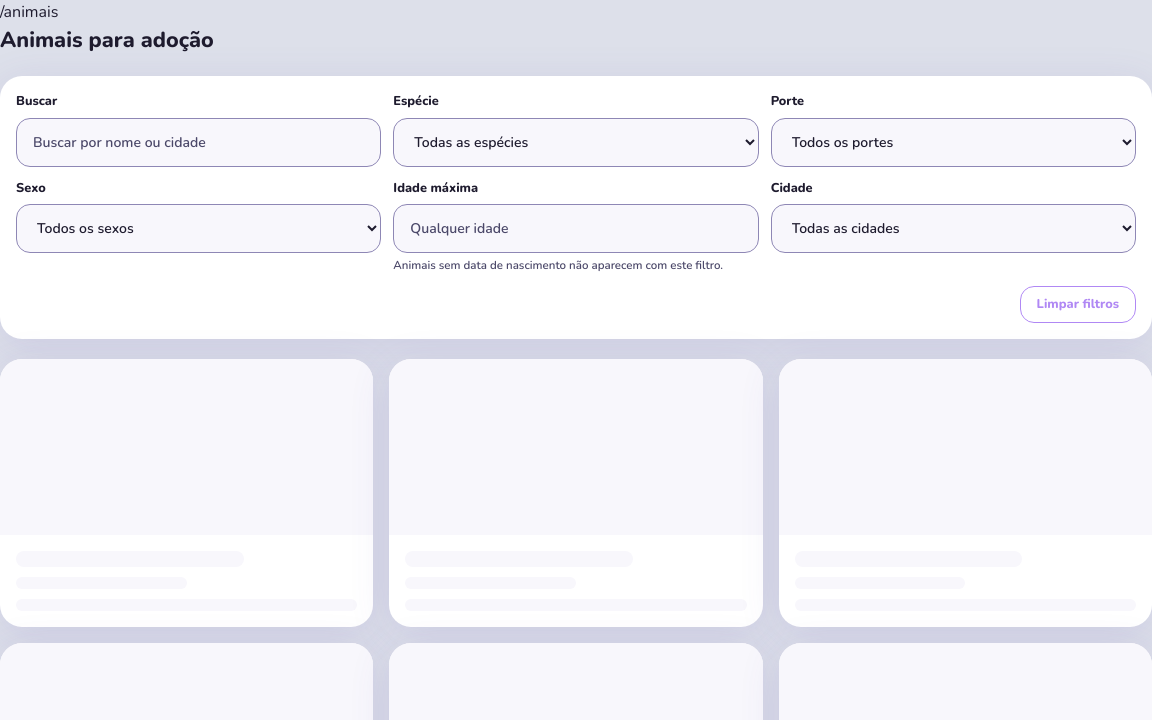
Test: CT-36/RN-53: resposta obsoleta é descartada por sequência › a primeira consulta respondendo POR ÚLTIMO não sobrescreve a segunda
Type "gato" into the search field labelled "Buscar" at (199, 142), box [16, 118, 381, 167]
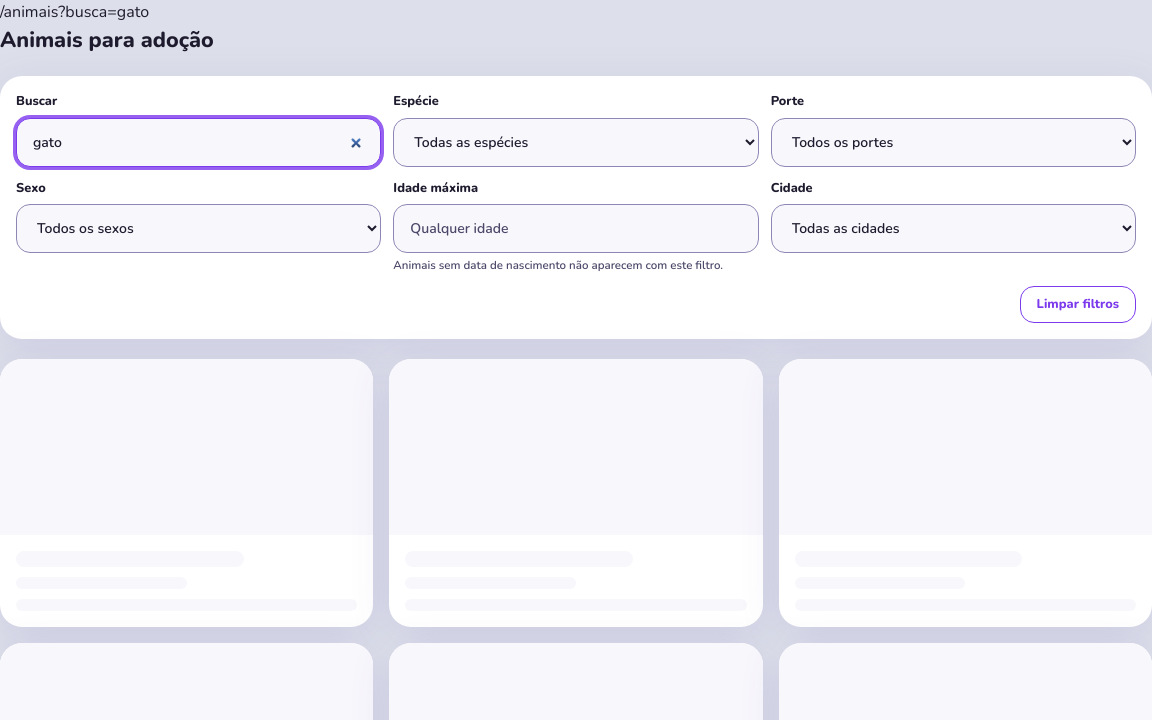
Replace the text in the search field labelled "Buscar" with "ga" at (199, 142), box [16, 118, 381, 167]
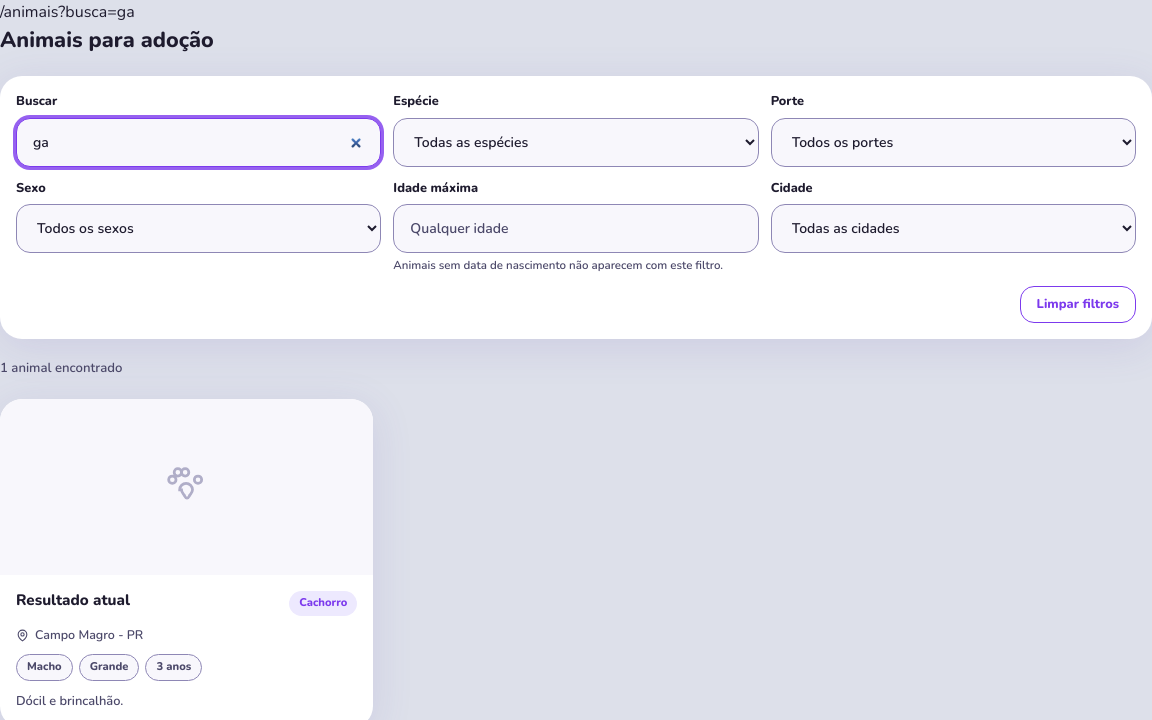
Now the heading "Resultado atual" is shown, box [16, 591, 130, 610]
